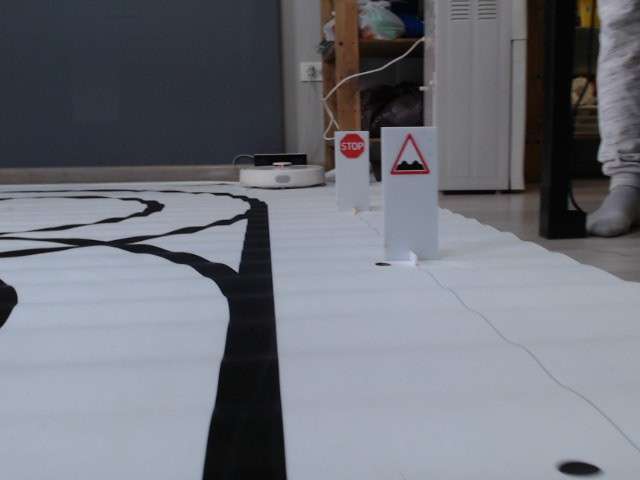Nerov: (386, 135, 436, 181)
Stop: (338, 133, 366, 161)
